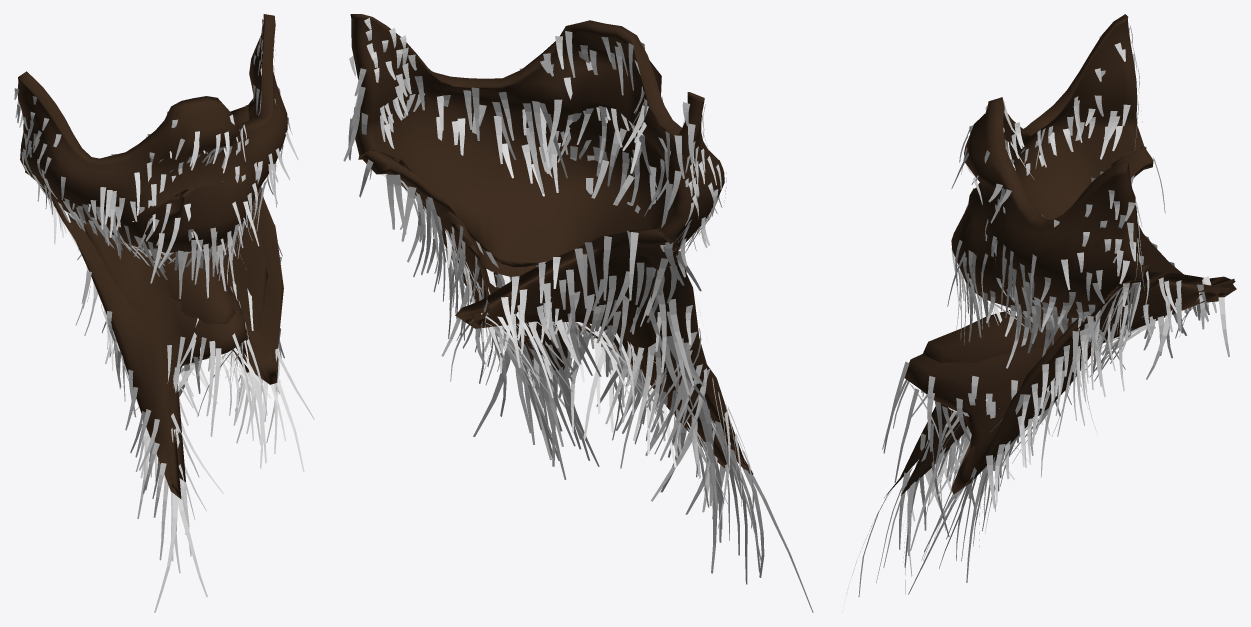
The model's file is beard-berserker-forked.glb.
The picture shows the model from 3 angles, left to right: view 1: azimuth 30°, elevation 25°; view 2: azimuth 150°, elevation 25°; view 3: azimuth 270°, elevation 25°; orthographic projection. The views are drawn at different scales.
Parts seen in each view (by area): view 1: beard-berserker-forked_1, beard__strands; view 2: beard-berserker-forked_1, beard__strands; view 3: beard-berserker-forked_1, beard__strands.
Boxes of the visible parts, <box> form: beard-berserker-forked_1: <box>17,14,287,499</box>; beard__strands: <box>14,19,314,612</box>; beard-berserker-forked_1: <box>350,14,753,474</box>; beard__strands: <box>343,17,813,612</box>; beard-berserker-forked_1: <box>884,14,1236,497</box>; beard__strands: <box>846,25,1229,597</box>.
Size of the model in its own units: 0.1761 by 0.302 by 0.1896.
